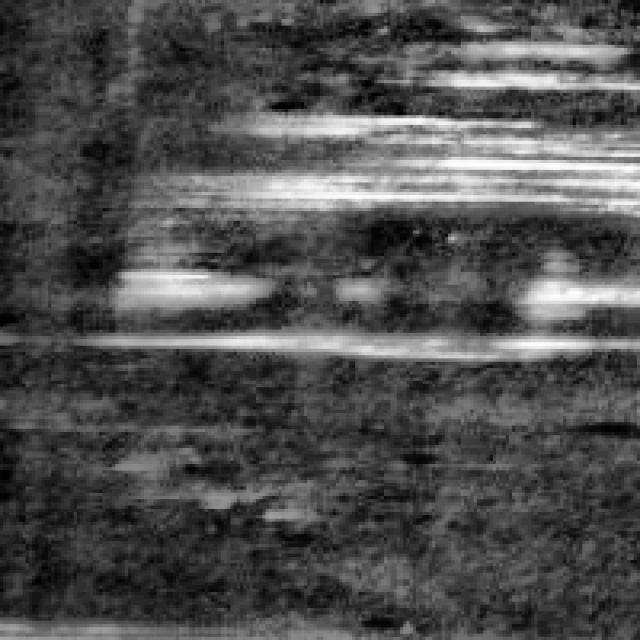Inclusion: (74, 259, 634, 365), (202, 128, 634, 214)
